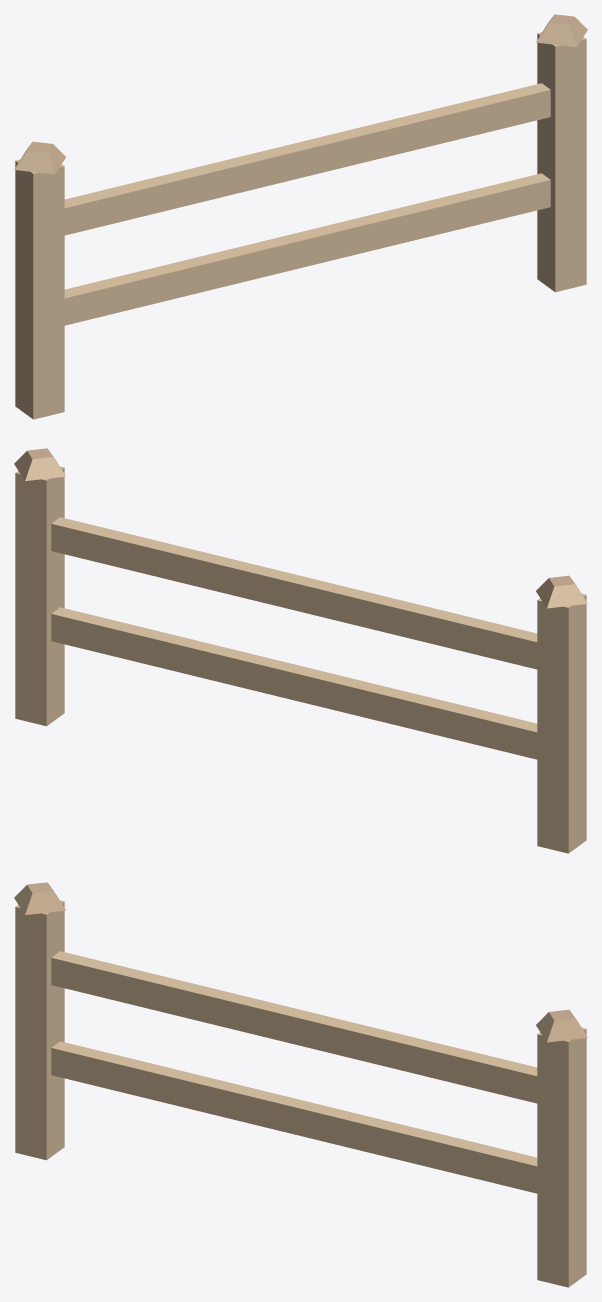
File: FenceSeg.fbx
The picture shows the model from 3 angles, top to bottom: view 1: azimuth 30°, elevation 25°; view 2: azimuth 150°, elevation 25°; view 3: azimuth 330°, elevation 25°; orthographic projection.
Visible parts, largest first — view 1: FenceSeg; view 2: FenceSeg; view 3: FenceSeg.
Part boxes in pixels (x1,y1,x2,y2): FenceSeg: (14,14,587,419); FenceSeg: (14,448,587,853); FenceSeg: (14,882,587,1287).
Bounding box in the file's own units: 2.2 × 0.96 × 0.2.
